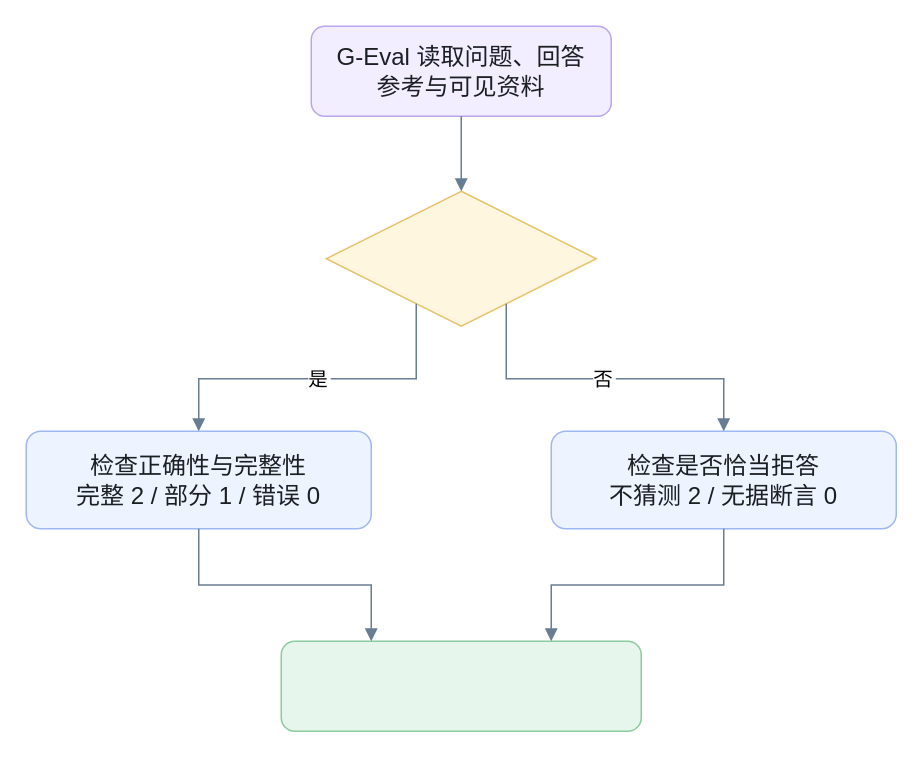
The diagram is 923 pixels wide and 758 high, and some of its shapes have lost their labels. Each missing label, with the centre of its shape:
SDK 归一化为 0～1 保存理由、状态与原始记录: the point at 460,685
证据足够回答？: the point at 460,258
